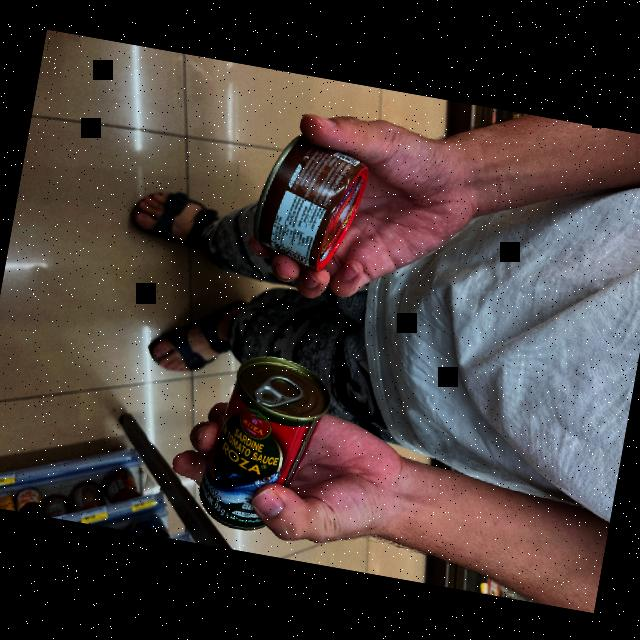can: (203, 347, 339, 542), (246, 115, 380, 282)
